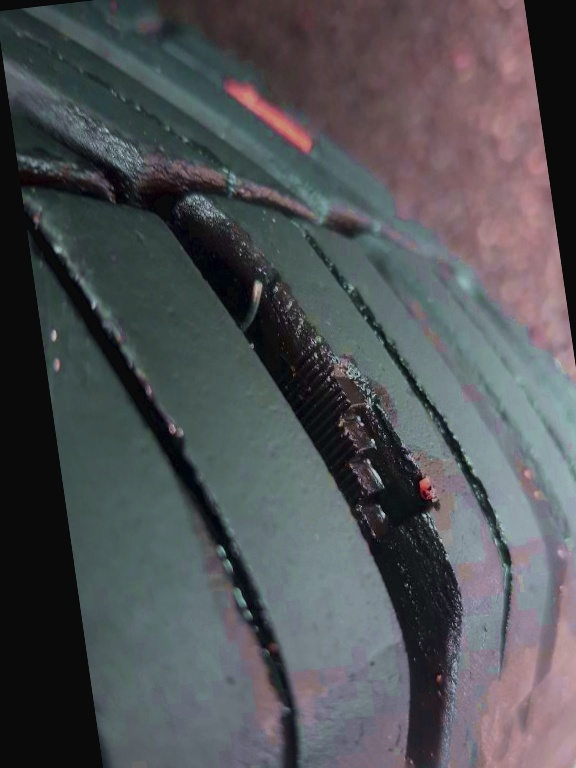temoin:80: (268, 329, 449, 562)
